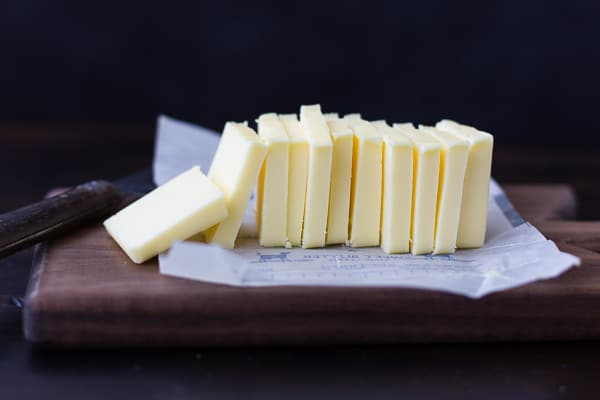Butter: (102, 170, 228, 260)
